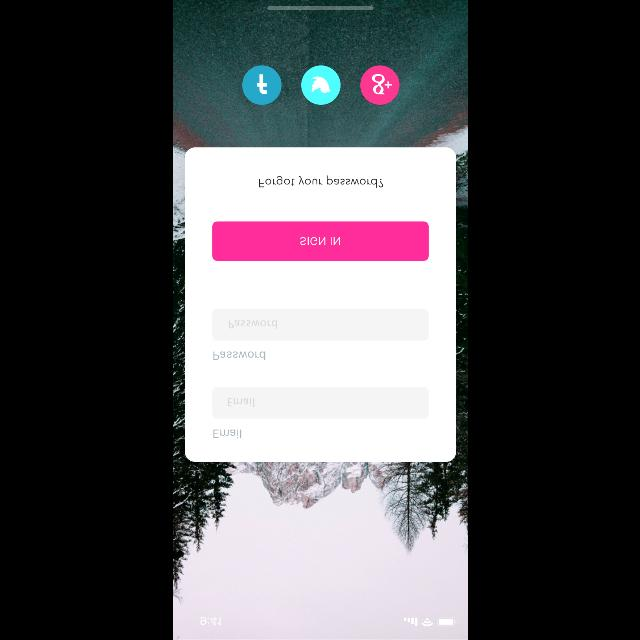backgroundimage: (172, 1, 468, 640)
icon: (300, 66, 340, 104), (359, 66, 398, 104), (242, 66, 280, 104)
input: (212, 388, 428, 418), (212, 310, 428, 340)
panel: (184, 147, 456, 461)
text: (259, 175, 383, 188), (213, 350, 265, 360), (228, 320, 276, 330), (226, 398, 254, 408), (213, 429, 241, 438)
textbutton: (212, 222, 428, 260)
uppertaskbar: (199, 616, 456, 626)
